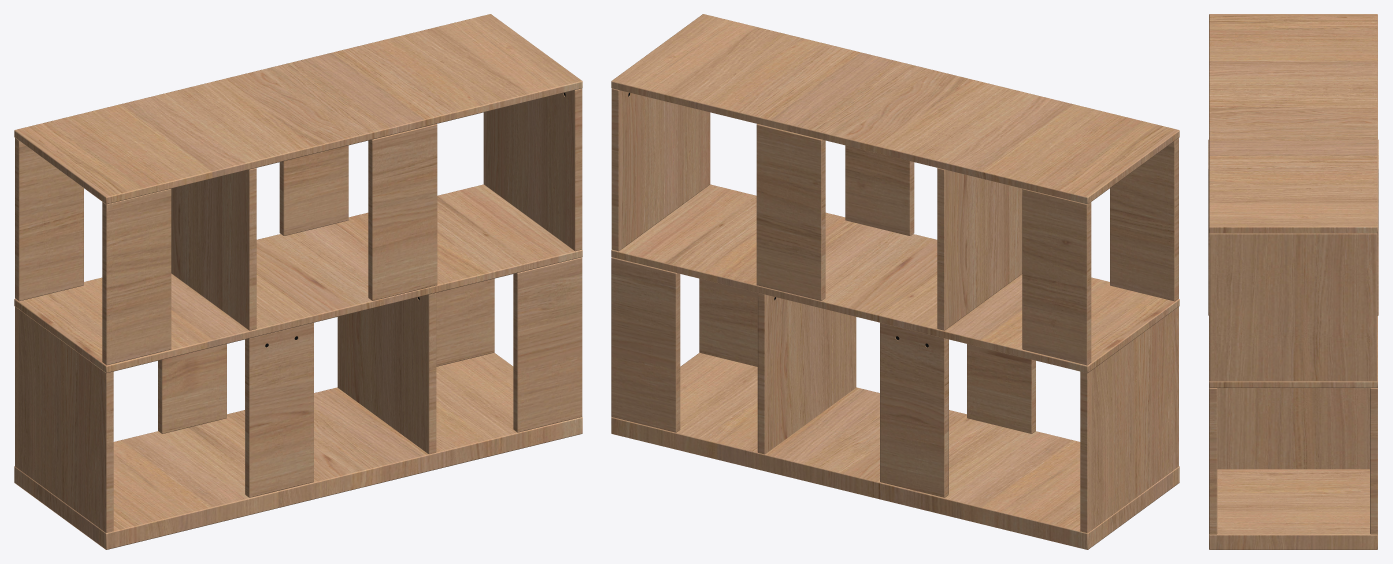
File: Kya Low Shelves, Oak.fbx
3 views of the same model, side by side, from view 1: azimuth 30°, elevation 25°; view 2: azimuth 150°, elevation 25°; view 3: azimuth 270°, elevation 25° (orthographic). The views are drawn at different scales.
Parts seen in each view (by area): view 1: Kya_Low_Shelves; view 2: Kya_Low_Shelves; view 3: Kya_Low_Shelves.
Boxes of the visible parts, bbox=[...] form: Kya_Low_Shelves: bbox=[14, 14, 582, 549]; Kya_Low_Shelves: bbox=[611, 14, 1179, 549]; Kya_Low_Shelves: bbox=[1208, 14, 1378, 549].
Size of what is drawn, in the model's own units: 120 by 85.03 by 40.61.
